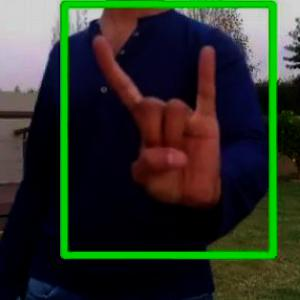takeoff-hand: (88, 22, 232, 219)
